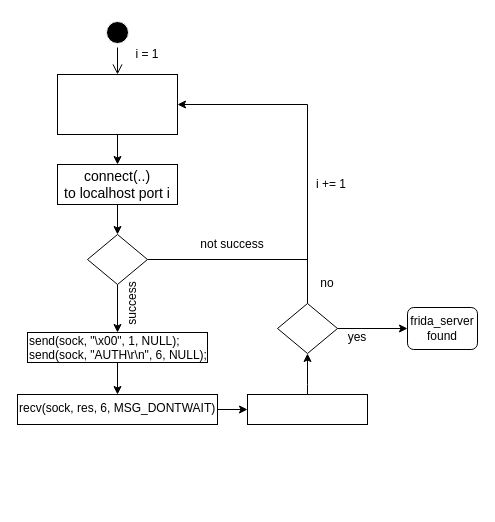
This 495x522 diagram has some shape labels left out. Here are the shapes that lost their labels. From the top down, the centre of each, then its label:
point (117, 104): while(i <= 65535)
point (307, 409): if(res == "REJECT")
